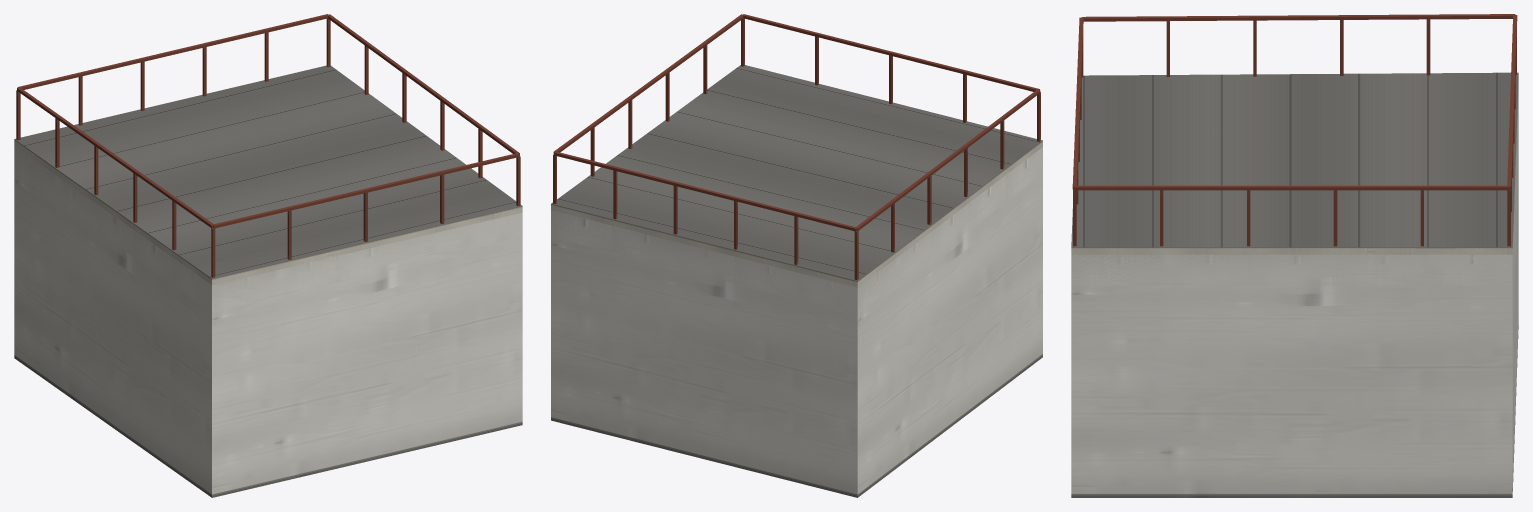
Rendered from SM_Molo_Edificio_A4A5_LOD2.fbx.
3 renders of one model, left to right at view 1: azimuth 30°, elevation 25°; view 2: azimuth 150°, elevation 25°; view 3: azimuth 270°, elevation 25°, orthographic. The views are drawn at different scales.
Visible parts, largest first — view 1: SM_Molo_Edificio_A4A5_LOD2; view 2: SM_Molo_Edificio_A4A5_LOD2; view 3: SM_Molo_Edificio_A4A5_LOD2.
Part boxes in pixels (x1,y1,x2,y2): SM_Molo_Edificio_A4A5_LOD2: [14, 14, 522, 497]; SM_Molo_Edificio_A4A5_LOD2: [551, 14, 1042, 497]; SM_Molo_Edificio_A4A5_LOD2: [1071, 14, 1518, 497].
Bounding box in the file's own units: 600 × 650 × 497.
1 material, 1 textured.
